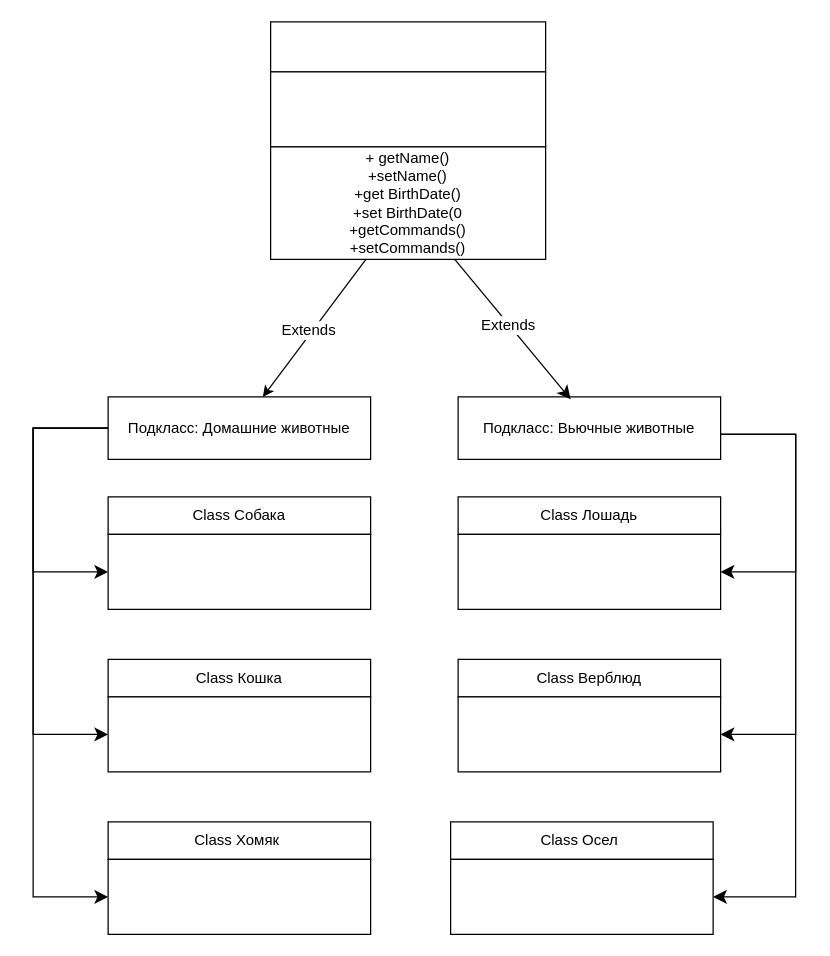
The diagram is 830 pixels wide and 956 high, and some of its shapes have lost their labels. Each missing label, with the centre of its shape:
"+ Name: String +BirthDate: Date + Commands: String[]" goes at pixel 407 109.
"Родительский класс: Животные" goes at pixel 407 46.
